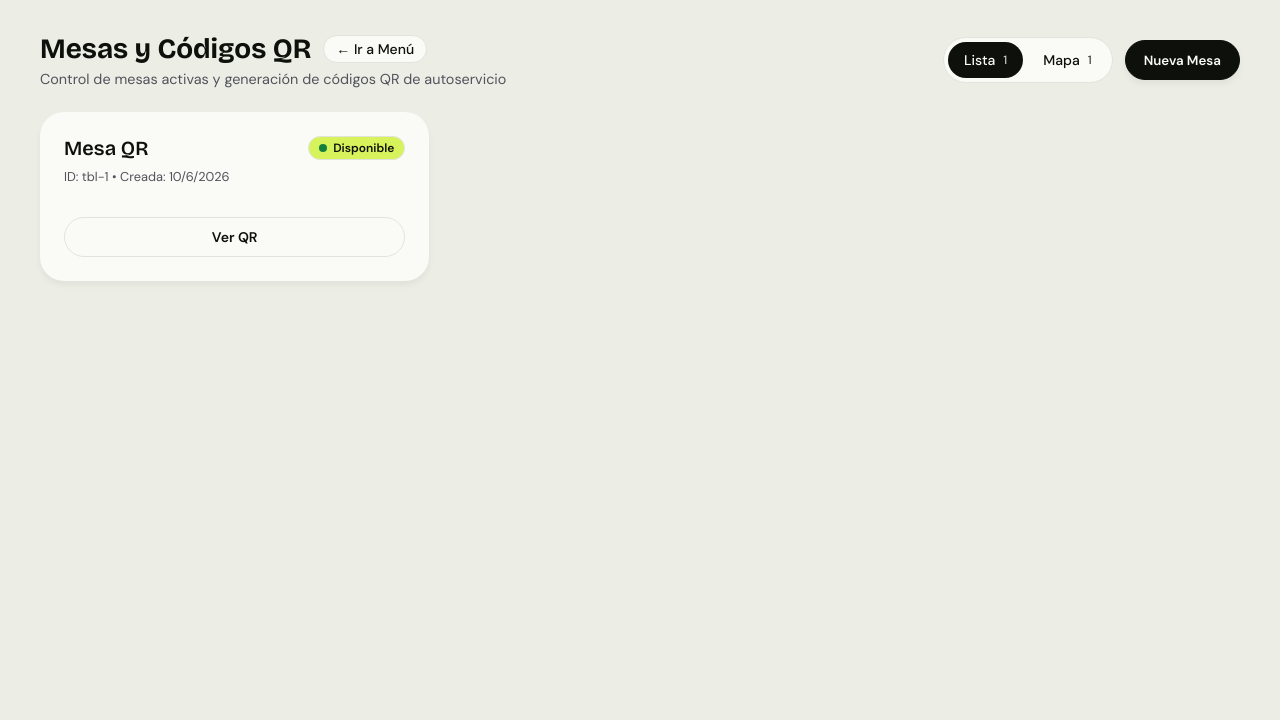
it: Gestión de Mesas en Admin Dashboard (Tests Rojo/Verde) › 10. Modal QR puede cerrarse con la tecla Escape o el botón de cerrar
This screenshot has width=1280, height=720.
Expected: the heading "Mesa QR" is shown, [64,136,148,160]
Click the button "Ver QR".
click(235, 237)  # box [64,217,405,257]
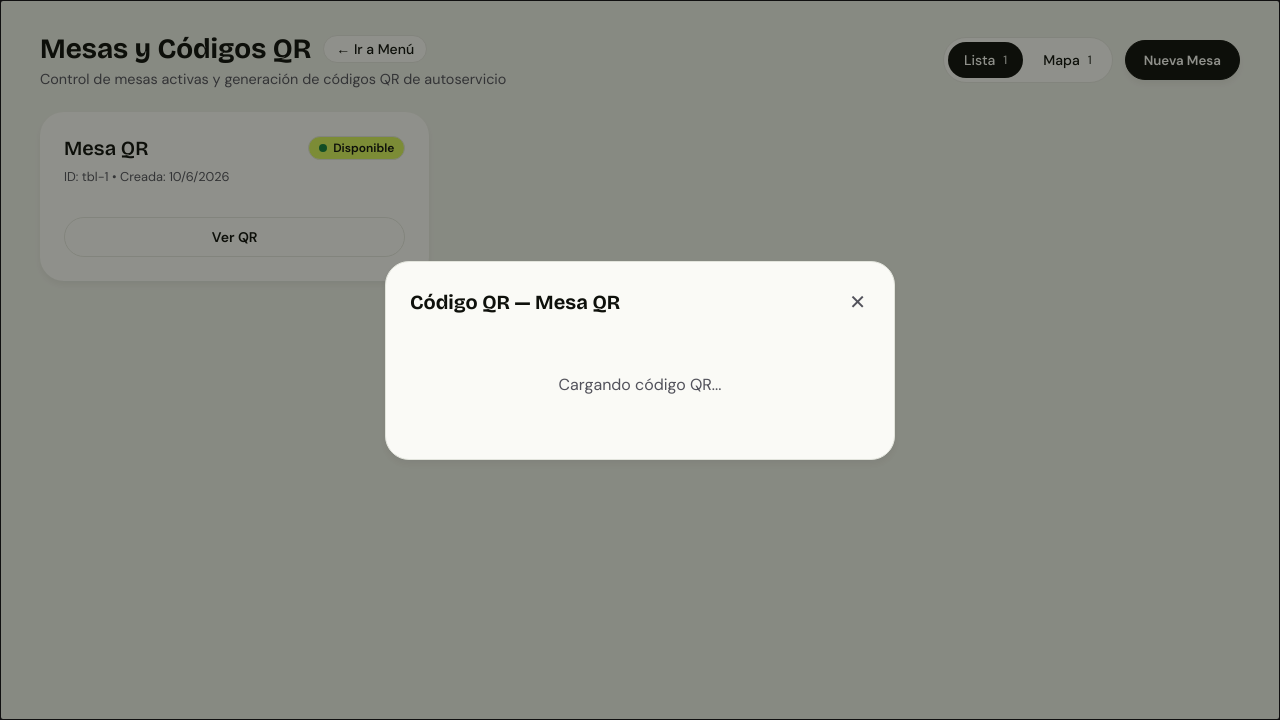
Now the dialog is shown
Presionar Escape para cerrar el modal
Press Escape in the dialog
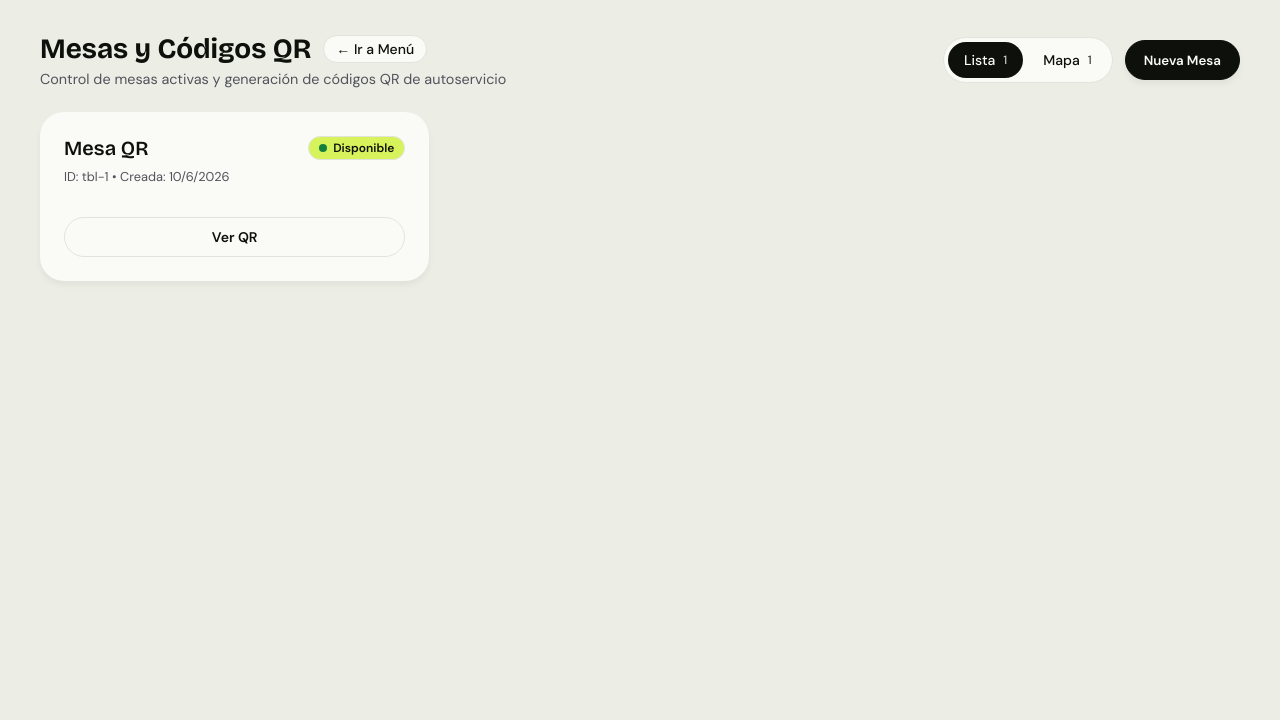
Now the dialog is gone
